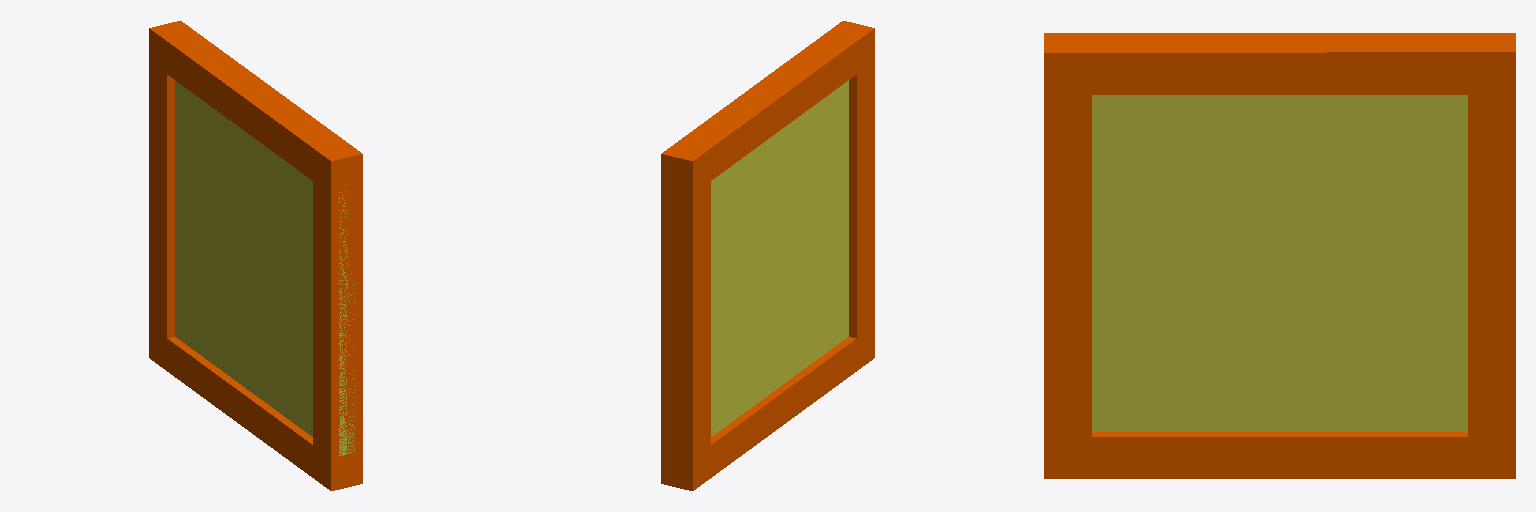
The robot description file, URDF, robot "urdf_door":
<?xml version="1.0" ?>
<robot name="urdf_door">
 <link name="world"/>
  <joint name="fixed" type="fixed">
    <parent link="world"/>
    <child link="baseLink"/>
    <origin rpy= "0 0 1.571" xyz="0 0 0"/>
  </joint>

  <link name="baseLink">
    <inertial>
      <origin rpy="0 0 0" xyz="0 0 0.35"/>
       <mass value="1.0"/>
       <inertia ixx="0.1" ixy="0" ixz="0" iyy="0.1" iyz="0" izz="0.1"/>
    </inertial>
    <visual>
      <origin rpy="0 0 0" xyz="0.05 0 0.5"/>
      <geometry>
      <box size="0.1 0.1 1"/>
      </geometry>
	   <material name="framemat0">
      <color
                    rgba="0.9 0.4 0. 1" />
      </material>
    </visual>
    <visual>
      <origin rpy="0 0 0" xyz="0.95 0 0.5"/>
      <geometry>
        <box size="0.1 0.1 1"/>
      </geometry>
	  <material name="framemat0"/>	 
    </visual>
    <visual>
      <origin rpy="0 0 0" xyz="0.5 0 0.95"/>
      <geometry>
        <box size="1 0.1 0.1"/>
      </geometry>
	  <material name="framemat0"/>
	  </visual>
    <visual>
      <origin rpy="0 0 0" xyz="0.5 0 0.05"/>
      <geometry>
        <box size="1 0.1 0.1"/>
      </geometry>
	  <material name="framemat0"/>
	  </visual>
    <collision>
      <origin rpy="0 0 0" xyz="0.05 0 0.5"/>
      <geometry>
        <box size="0.1 0.1 1"/>
      </geometry>
    </collision>
    <collision>
      <origin rpy="0 0 0" xyz="0.95 0 0.5"/>
      <geometry>
        <box size="0.1 0.1 1"/>
      </geometry>
    </collision>
    <collision>
      <origin rpy="0 0 0" xyz="0.5 0 0.95"/>
      <geometry>
        <box size="1 0.1 0.1"/>
      </geometry>
    </collision>
    <collision>
      <origin rpy="0 0 0" xyz="0.5 0 0.05"/>
      <geometry>
        <box size="1 0.1 0.1"/>
      </geometry>
    </collision>
    
  </link>
   <link name="childA">
    <inertial>
      <origin rpy="0 0 0" xyz="0.4 0 0.4"/>
      <mass value="1.0"/>
      <inertia ixx="0.048966669" ixy="0" ixz="0" iyy="0.046466667" iyz="0" izz="0.0041666669"/>
    </inertial>
    <visual>
      <origin rpy="0 0 0" xyz="0.4 0 0.4"/>
      <geometry>
        <box size="0.9  0.05 0.8"/>
      </geometry>
	   <material name="doormat0">
      <color rgba="0.8 0.8 0.3 1" />
      </material>

	  </visual>
     <collision>
       <origin rpy="0 0 0" xyz="0.4 0 0.4"/>
       <geometry>
         <box size="0.9  0.05 0.8"/>
       </geometry>
     </collision>

   </link>
   <joint name="joint_baseLink_childA" type="continuous">
    <parent link="baseLink"/>
    <child link="childA"/>
	<dynamics damping="1.0" friction="0.0001"/>
    <origin xyz="0.05 0 0.1"/>
		<axis xyz="0 0 1"/>
  </joint>
</robot>

--- Render facts (derived) ---
3 views of the same robot in one strip: view 1: azimuth 30°, elevation 25°; view 2: azimuth 150°, elevation 25°; view 3: azimuth 270°, elevation 25° (orthographic).
Model urdf_door with 3 links and 2 joints (1 continuous, 1 fixed), rooted at world, posed every joint at zero.
Visible links, largest first — view 1: baseLink, childA; view 2: baseLink, childA; view 3: childA, baseLink.
Link boxes in pixels (x1,y1,x2,y2): baseLink: [149, 21, 362, 490]; childA: [175, 80, 354, 456]; baseLink: [661, 21, 874, 490]; childA: [711, 80, 848, 436]; childA: [1092, 95, 1467, 431]; baseLink: [1044, 33, 1515, 478].
Size in the robot's own frame: 0.1002 by 1 by 1 metres.
Geometry: primitives only (box / cylinder / sphere), no mesh files.